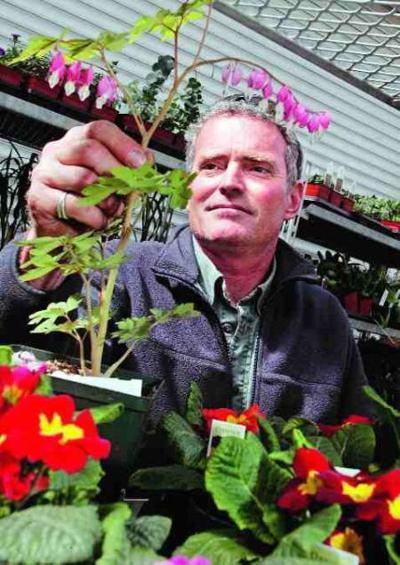person: (3, 102, 380, 470)
